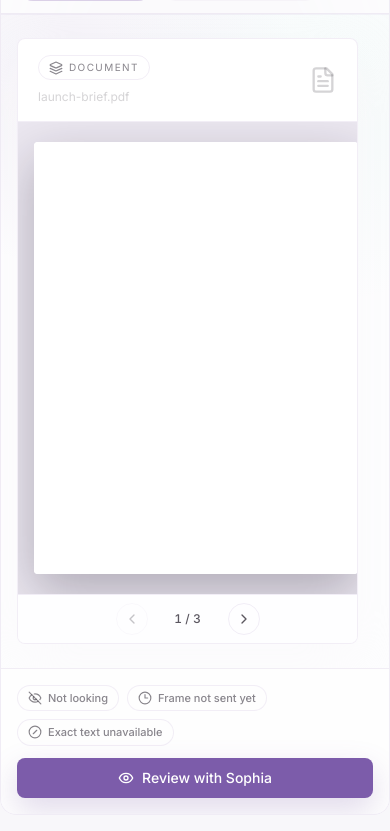
Coreview artifact still-frame review › routes PDF voice zoom commands through the stage zoom path and refreshes after the zoom view is ready
(page scrolled)
Click the button "Review with Sophia" at [195, 778], box [17,758,373,798]
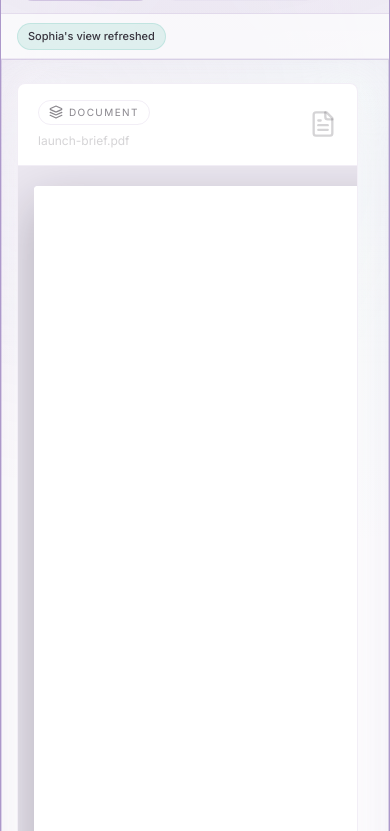
Expected: the message with test id "artifact-voice-command-status" reads "Sophia's view refreshed", [28,29,155,43]
